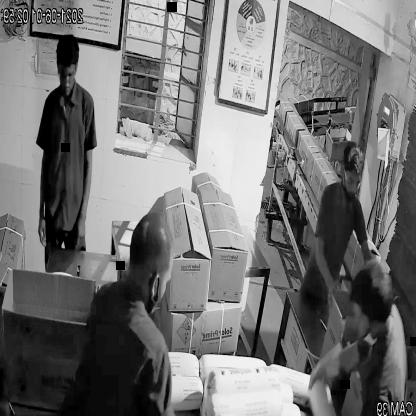goggles: (340, 166, 366, 193)
